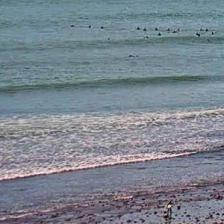surfer: (128, 54, 138, 57), (206, 38, 211, 44), (172, 30, 180, 33), (143, 28, 147, 31), (136, 27, 140, 30), (154, 27, 158, 30), (158, 33, 162, 36), (196, 33, 200, 36), (167, 28, 170, 32), (200, 28, 204, 31), (206, 28, 209, 32), (70, 24, 75, 26), (144, 36, 149, 38), (101, 26, 104, 29), (108, 37, 110, 40), (211, 32, 214, 34), (89, 26, 91, 28)
